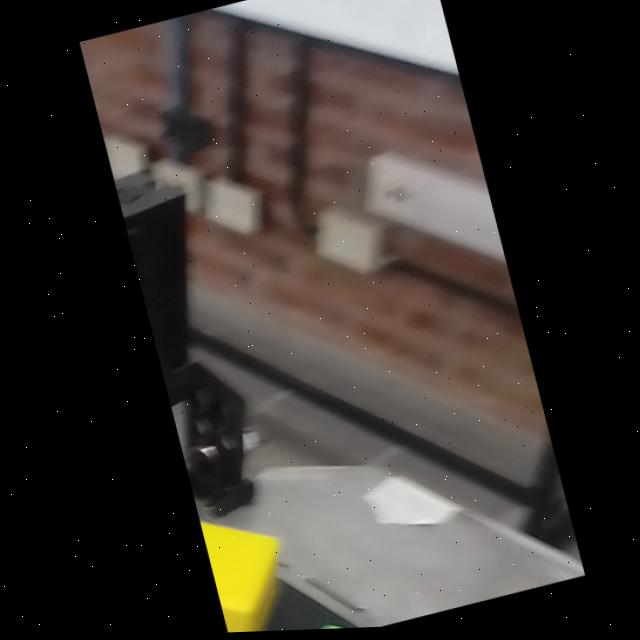greenBox: (225, 578, 477, 634)
yellowBox: (187, 469, 308, 635)
